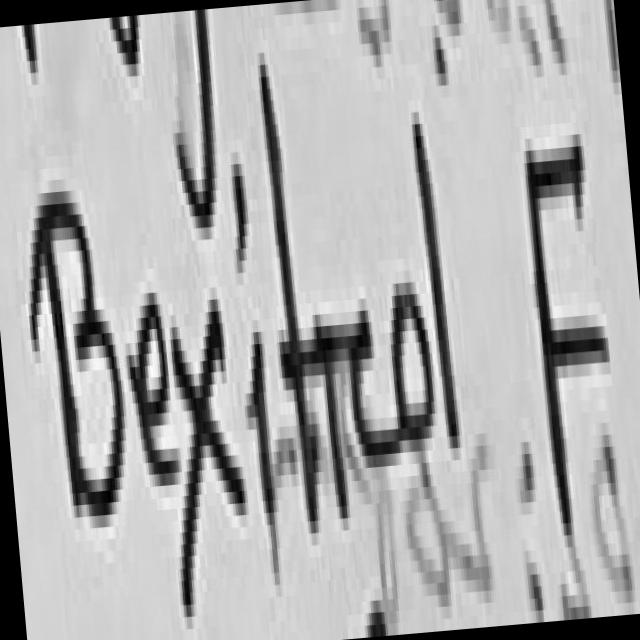B: (30, 191, 124, 526)
e: (129, 292, 174, 478)
i: (249, 331, 279, 578), (232, 163, 248, 266)
l: (415, 124, 460, 441)
o: (389, 294, 431, 456)
r: (317, 310, 399, 511)
t: (261, 65, 321, 527)
x: (173, 311, 244, 610)
